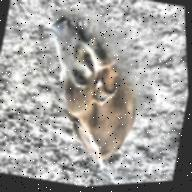boar: (21, 5, 159, 180)
